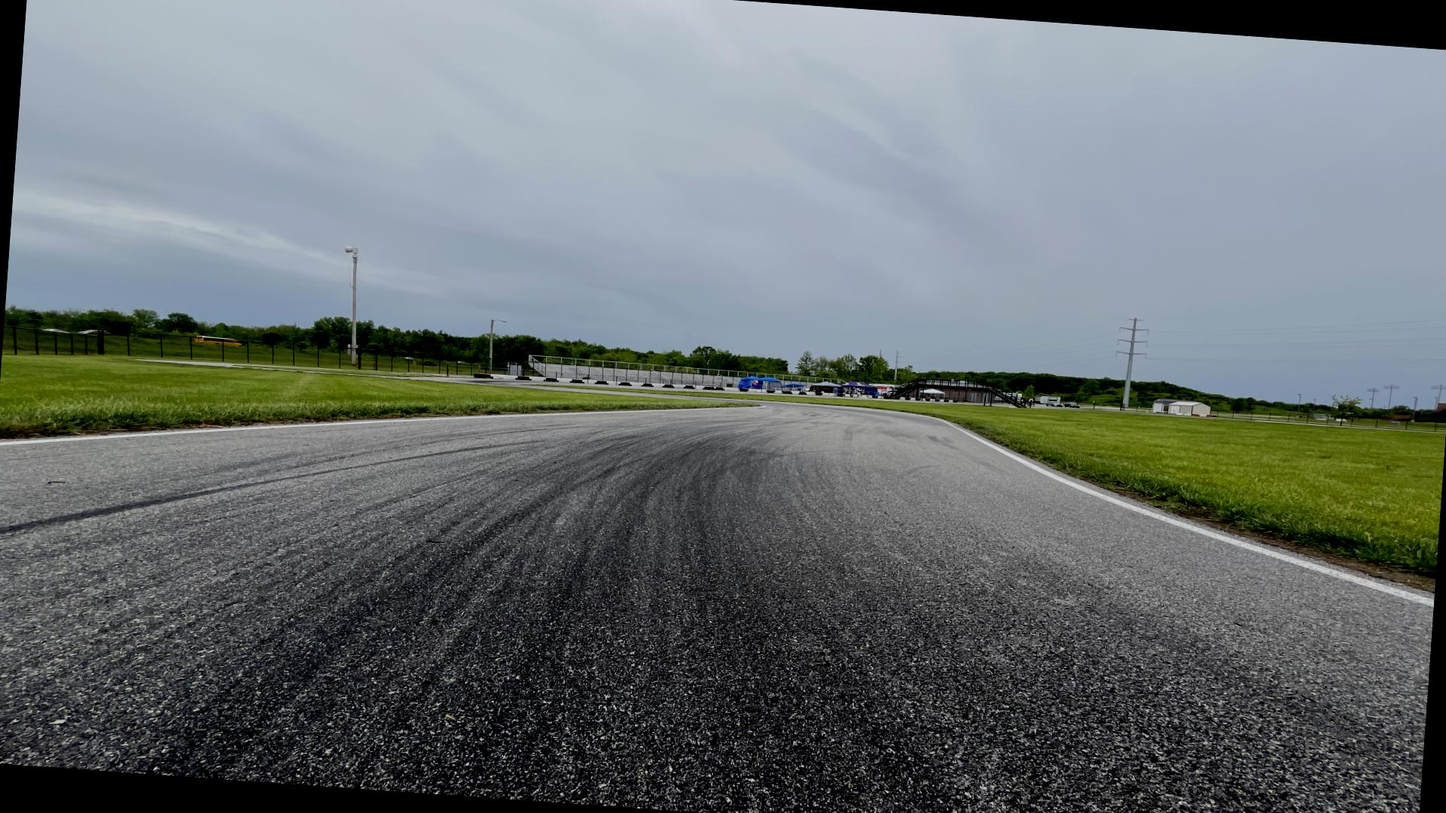white-line: (865, 409, 1434, 608), (0, 406, 766, 446)
